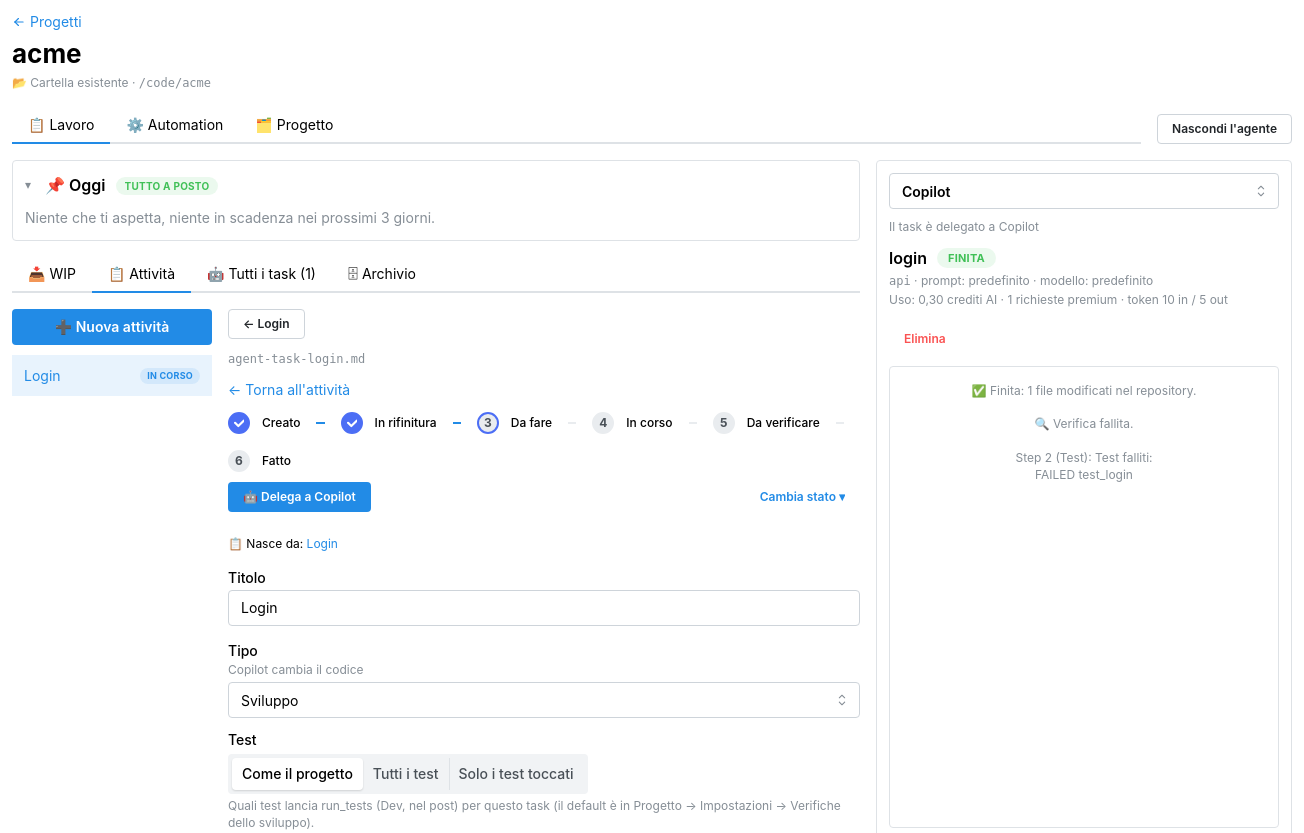
it: development checks › a development opened from an activity: «← Torna all'attività»
Expected: the button "🤖 Delega a Copilot" is shown, [228,482,371,512]
Click the button "← Torna all'attività" at (289, 390), box [228,380,350,400]
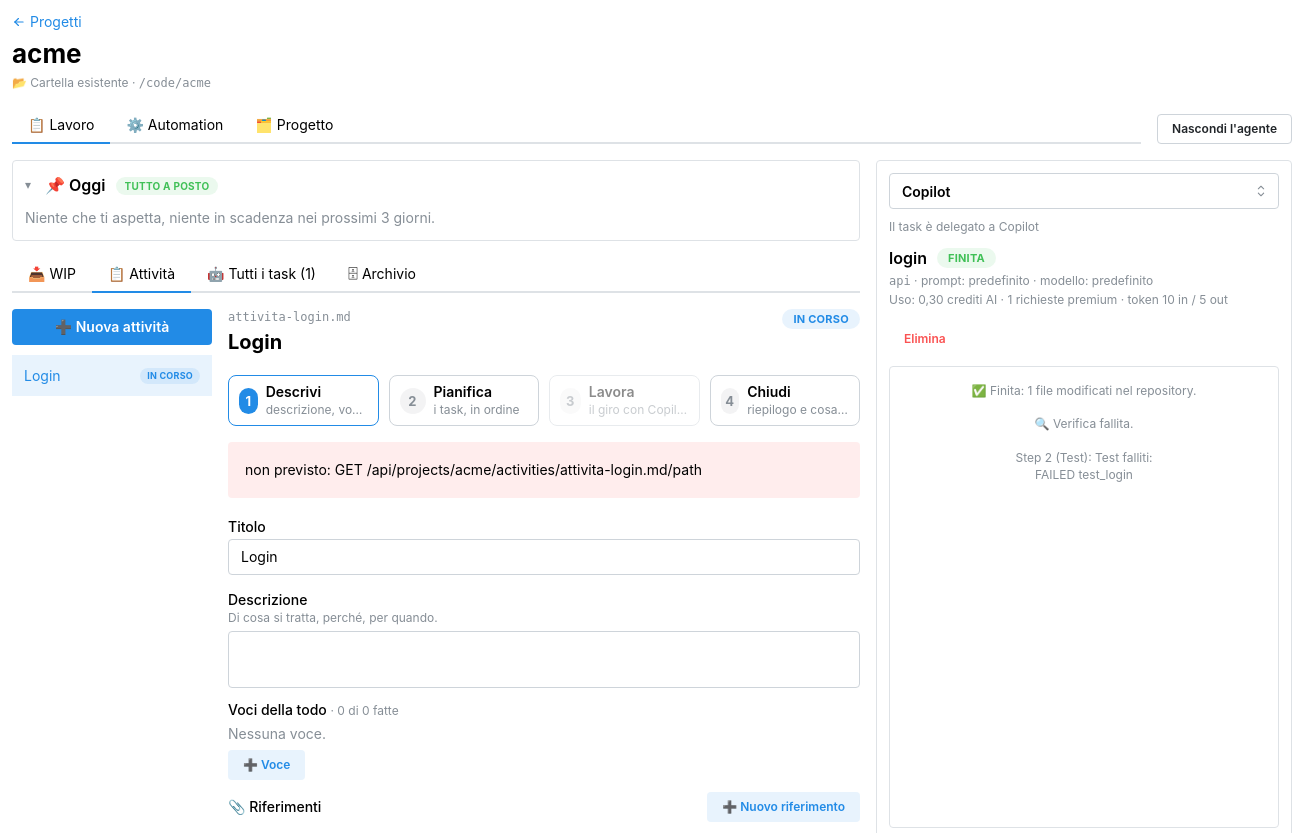
Result: the tab "3 Lavora il giro con Copilot e Dev" is shown at [549,375,700,426]
